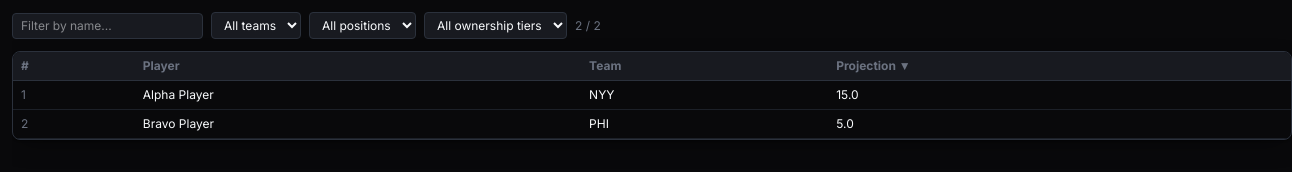
Scenario: PlayerTable › filters rows by the team dropdown
The width and height of the screenshot is (1292, 172).
Select "PHI" in the 1st dropdown showing "All teams". click: (256,26)
box: left=211, top=12, right=301, bottom=39
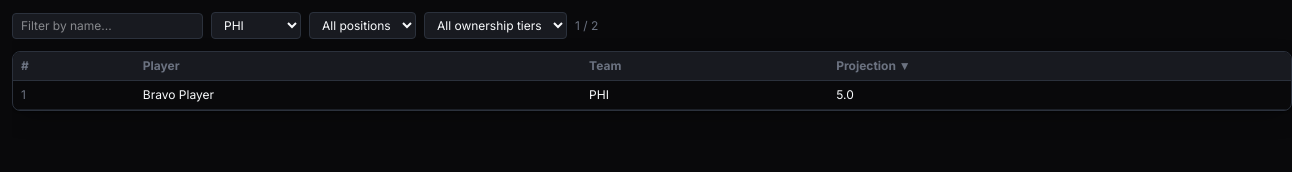
Expected: the text "Bravo Player" is shown, left=135, top=80, right=581, bottom=110
Now the text "Alpha Player" is gone
